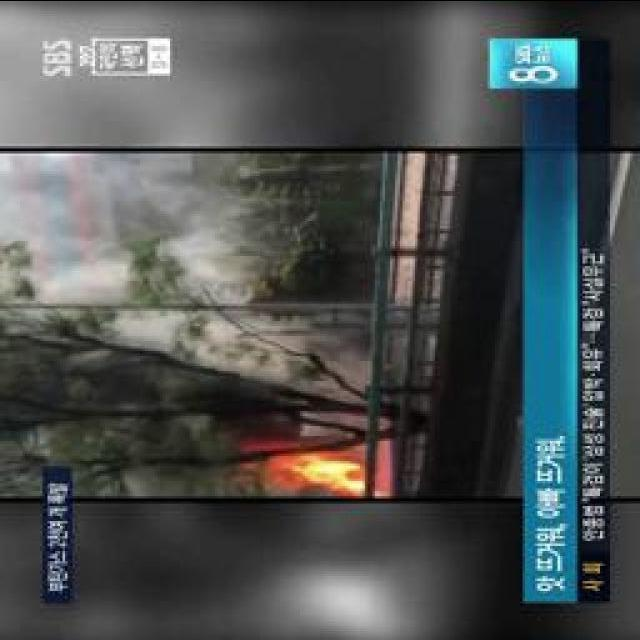Fire: (292, 451, 389, 492)
